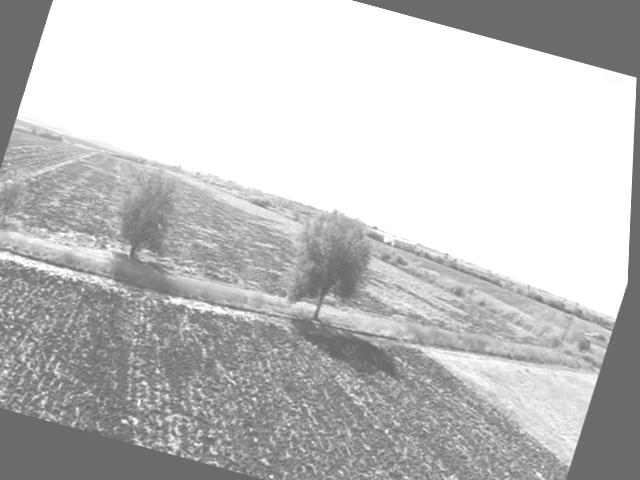hedef: (365, 219, 425, 258)
